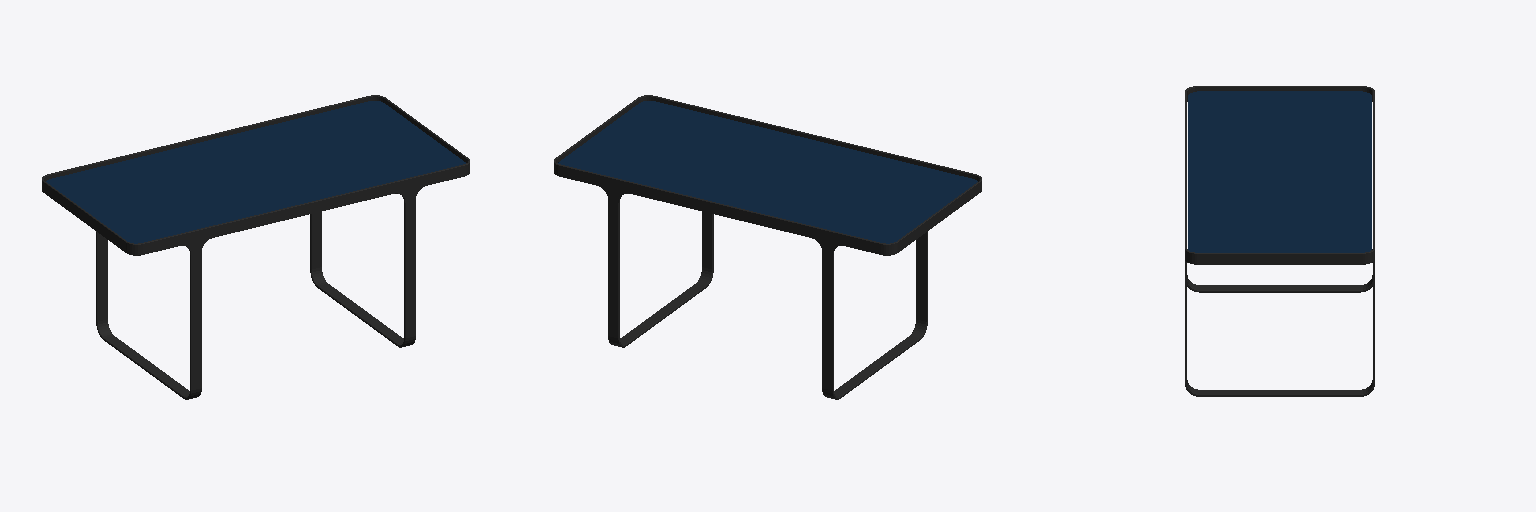
Rendered from table.obj.
3 renders of one model, left to right at view 1: azimuth 30°, elevation 25°; view 2: azimuth 150°, elevation 25°; view 3: azimuth 270°, elevation 25°, orthographic.
Visible parts, largest first — view 1: naughtone_trace_white; view 2: naughtone_trace_white; view 3: naughtone_trace_white.
Boxes of the visible parts, box(x1,y1,x2,y2) form: naughtone_trace_white: box(42, 95, 469, 399); naughtone_trace_white: box(554, 95, 981, 399); naughtone_trace_white: box(1185, 86, 1374, 396).
Bounding box in the file's own units: 10.15 × 4.88 × 4.88.